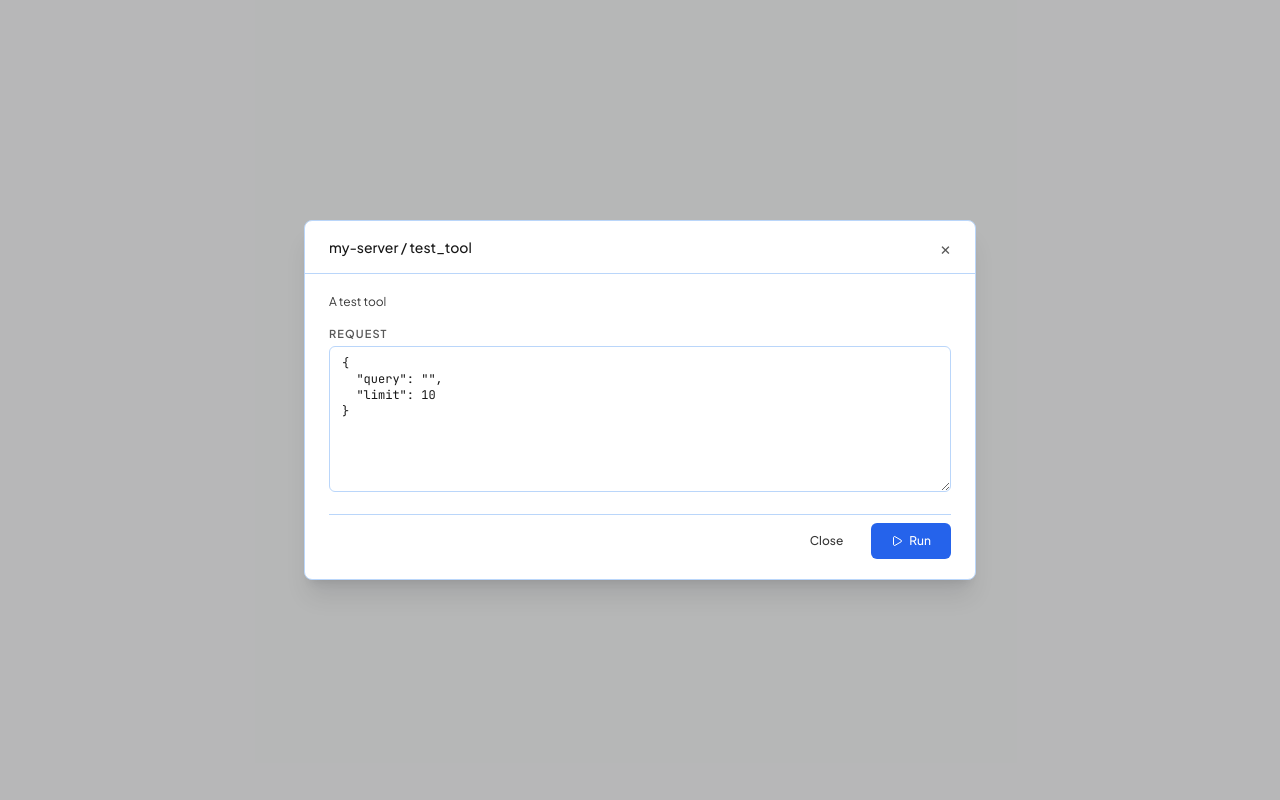
Test: TryToolModal › shows JSON error for invalid input
The width and height of the screenshot is (1280, 800).
Replace the text in the text box with "not json": coordinates (640, 419) [329,346,951,492]
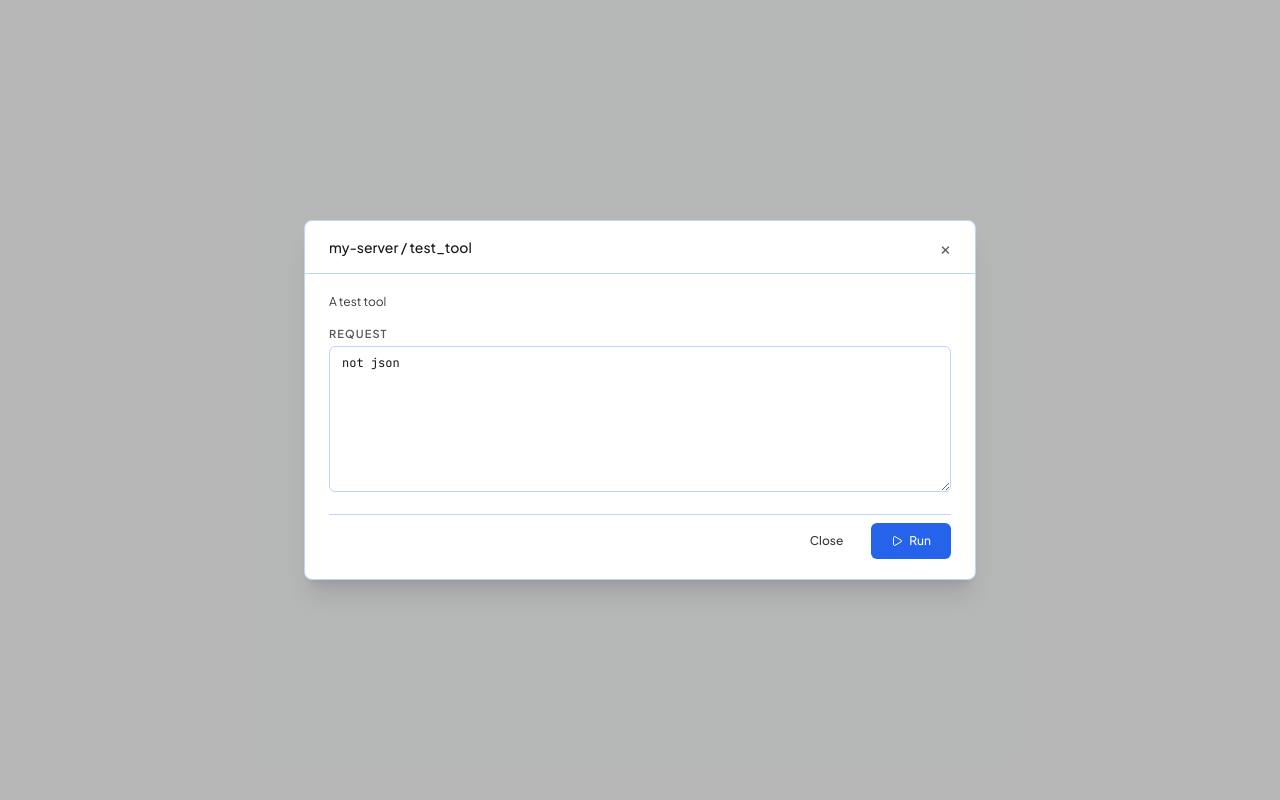
Click the button "Run": coordinates (911, 541) [871,523,951,559]
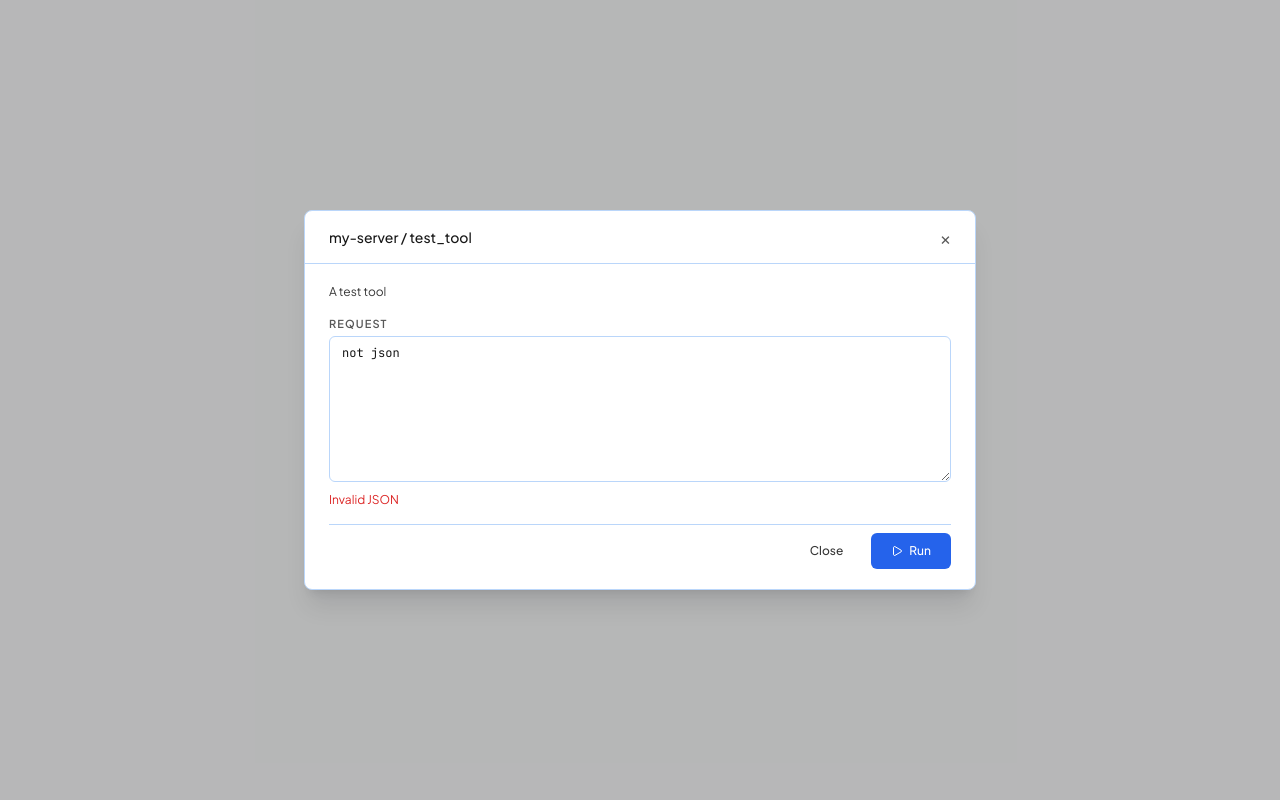
Check: the text "Invalid JSON" is shown, box [329,492,399,507]
